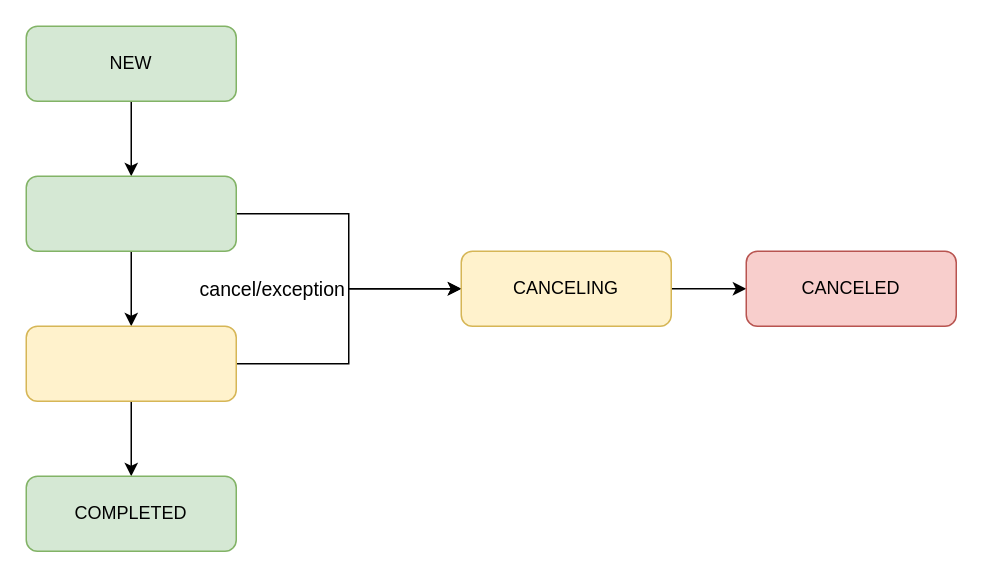
Some shapes in this 983 by 578 pixel diagram are drawn without their labels. The box of each missing label's shape, as (x1, y1, x2, y2) in pixels:
ACTIVE: (25, 175, 236, 251)
COMPLETING: (25, 325, 236, 401)
